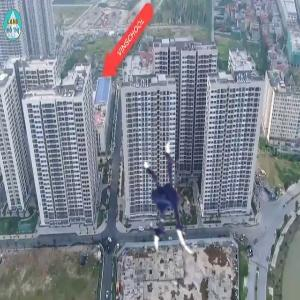drone: (122, 144, 237, 259)
